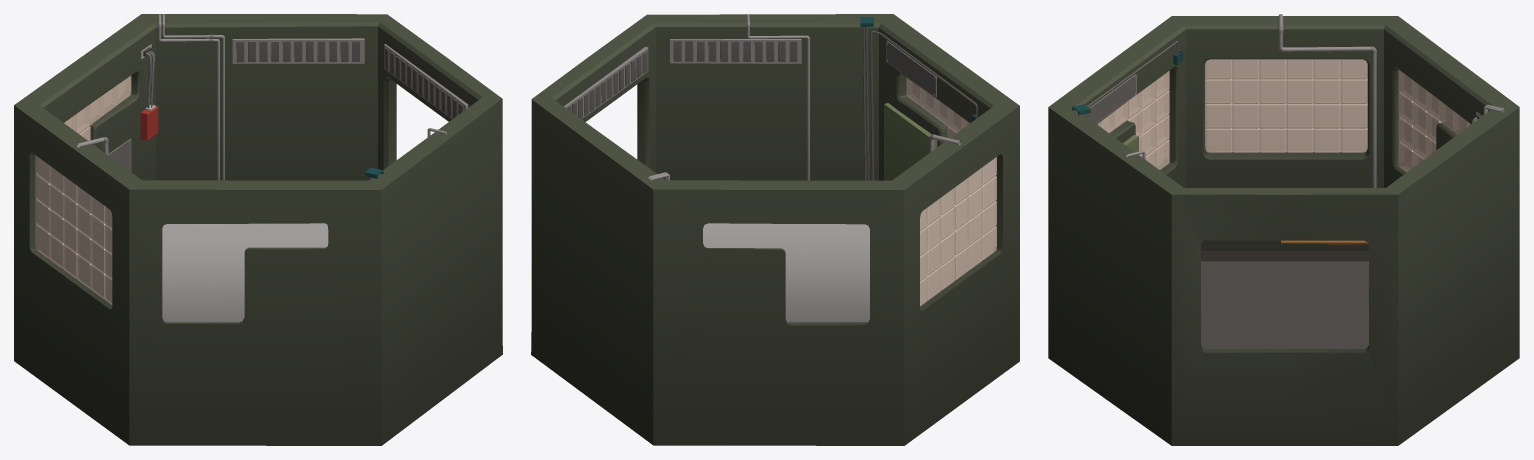
The model's file is LabRoom_Walls.fbx.
The picture shows the model from 3 angles, left to right: view 1: azimuth 30°, elevation 25°; view 2: azimuth 150°, elevation 25°; view 3: azimuth 270°, elevation 25°; orthographic projection.
Parts seen in each view (by area): view 1: roomShell, Plane.037, windowBlock_mid, roomShell.002, Cube.149, roomShell.001, windowBlock_right, Cube.045; view 2: roomShell, Plane.029, windowBlock_mid, Door, roomShell.003, Cube.152, roomShell.001, windowBlock_left, Cube.045; view 3: roomShell, windowBlock_mid, windowBlock_right, windowBlock_left.
Boxes of the visible parts, left/top/right/bottom form: roomShell: left=14, top=14, right=502, bottom=445; Plane.037: left=162, top=223, right=328, bottom=322; windowBlock_mid: left=35, top=155, right=112, bottom=304; roomShell.002: left=236, top=41, right=359, bottom=62; Cube.149: left=232, top=38, right=364, bottom=63; roomShell.001: left=384, top=47, right=463, bottom=118; windowBlock_right: left=64, top=75, right=131, bottom=140; Cube.045: left=384, top=44, right=468, bottom=119; roomShell: left=531, top=14, right=1019, bottom=445; Plane.029: left=703, top=223, right=869, bottom=322; windowBlock_mid: left=920, top=157, right=996, bottom=306; Door: left=884, top=103, right=937, bottom=180; roomShell.003: left=673, top=41, right=797, bottom=61; Cube.152: left=669, top=39, right=801, bottom=63; roomShell.001: left=566, top=50, right=647, bottom=118; windowBlock_left: left=906, top=78, right=969, bottom=138; Cube.045: left=564, top=46, right=648, bottom=119; roomShell: left=1048, top=14, right=1519, bottom=445; windowBlock_mid: left=1205, top=59, right=1367, bottom=152; windowBlock_right: left=1398, top=70, right=1470, bottom=171; windowBlock_left: left=1097, top=71, right=1169, bottom=169.
Size of the model in its own units: 3.52 by 2.35 by 3.93.
